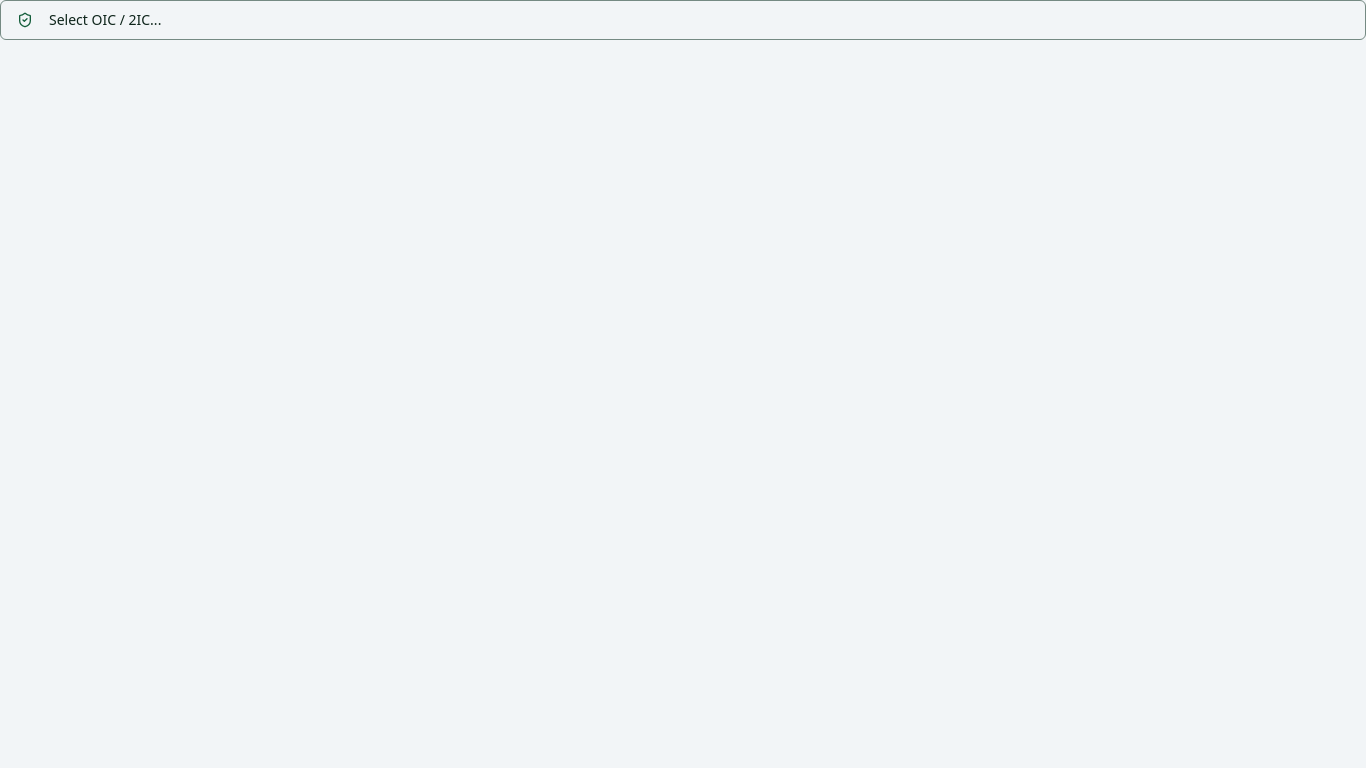
Test case: AuthorisedByPicker — accessibility announcements › announces the error state assertively with a distinct Retry label
Click the button "Select OIC / 2IC..." at x=105, y=20, box [0, 0, 1365, 40]
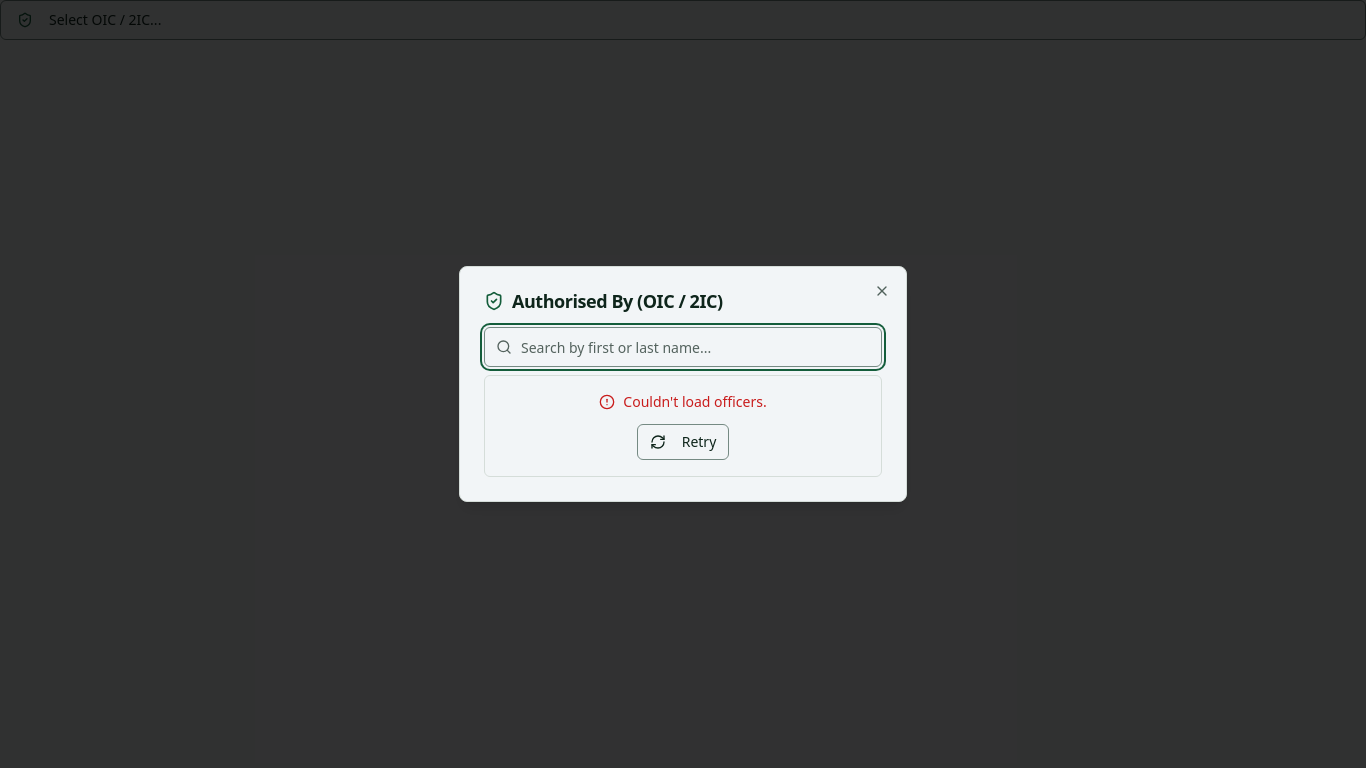
Now the message shows "Couldn't load officers", box [623, 392, 767, 411]
Now the button with aria-label "retry loading officers" is shown, box [637, 424, 729, 460]
